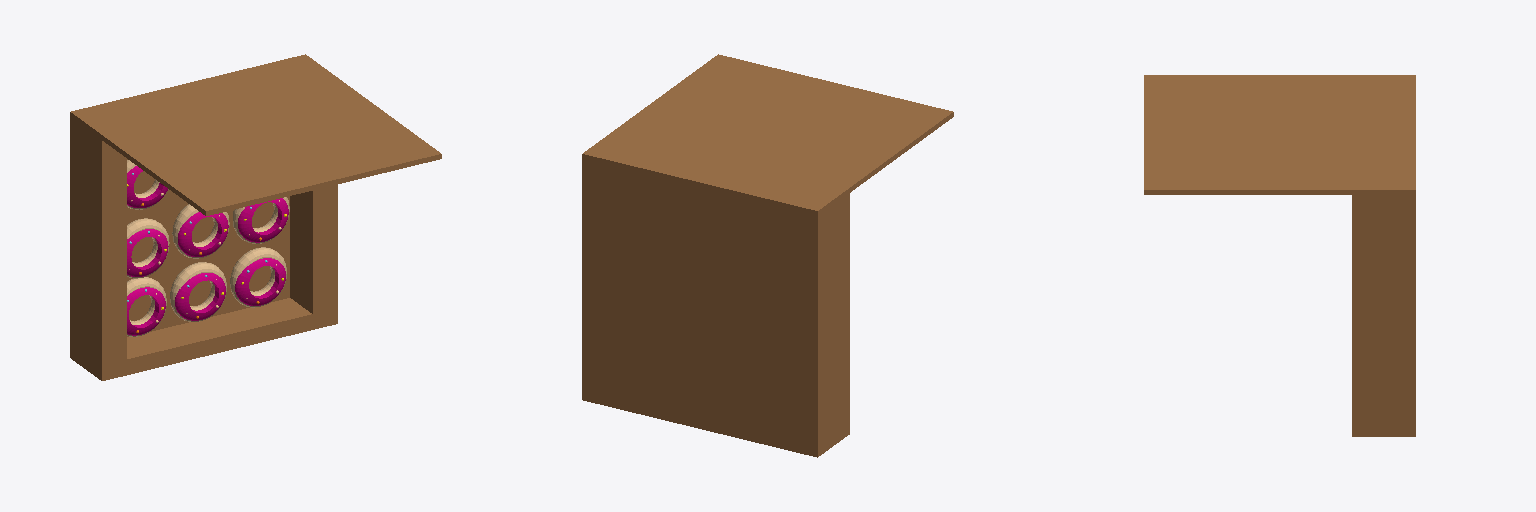
File: tinker.obj
The picture shows the model from 3 angles: view 1: azimuth 30°, elevation 25°; view 2: azimuth 150°, elevation 25°; view 3: azimuth 270°, elevation 25°; orthographic projection.
Visible parts, largest first — view 1: obj_0; view 2: obj_0; view 3: obj_0.
Boxes of the visible parts, <box> form: obj_0: <box>70,54,441,380</box>; obj_0: <box>582,54,953,457</box>; obj_0: <box>1144,75,1415,436</box>.
Size of the model in its own units: 47 by 47 by 47.